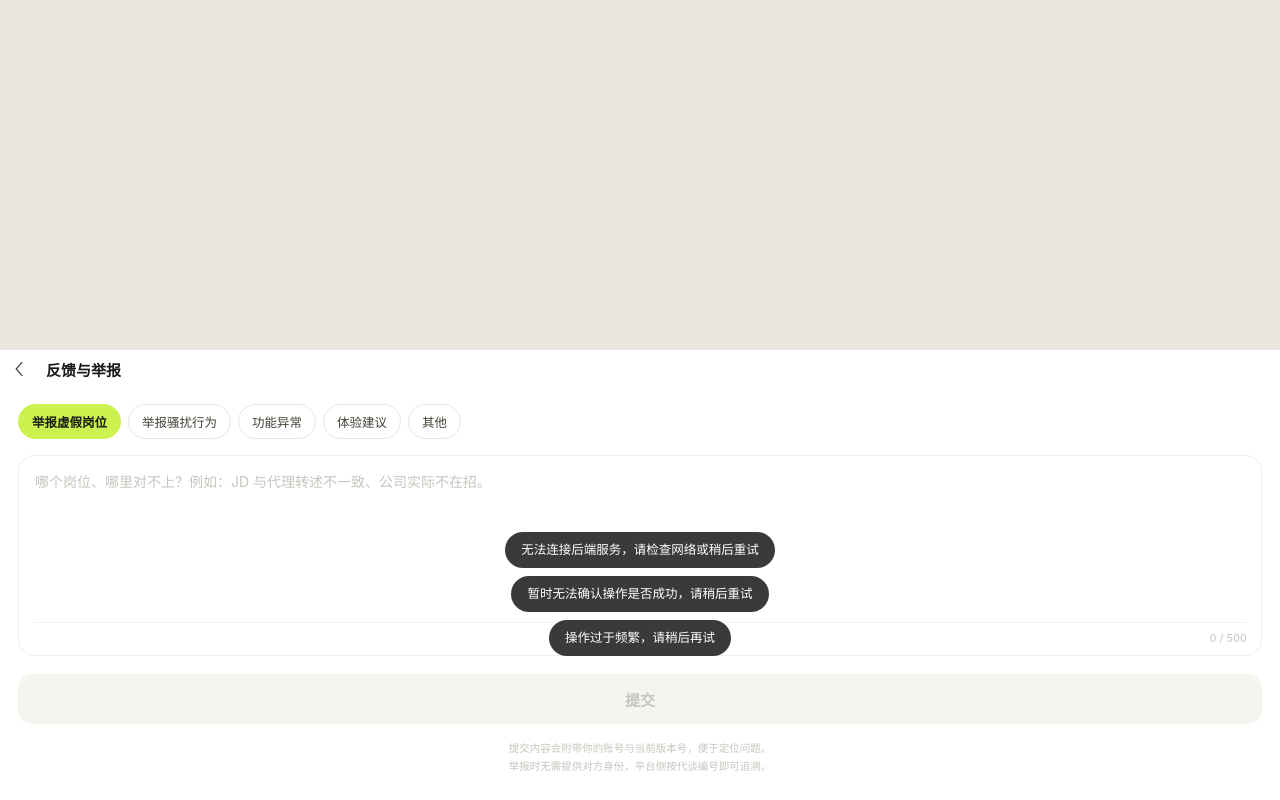
Scenario: 反馈 · Mock 字节级不变 › 举报类分类保持既有本地成功与 24 小时文案（原型行为原样）
(page scrolled)
Click the button "举报虚假岗位" at [70, 422], box [18,404,121,439]
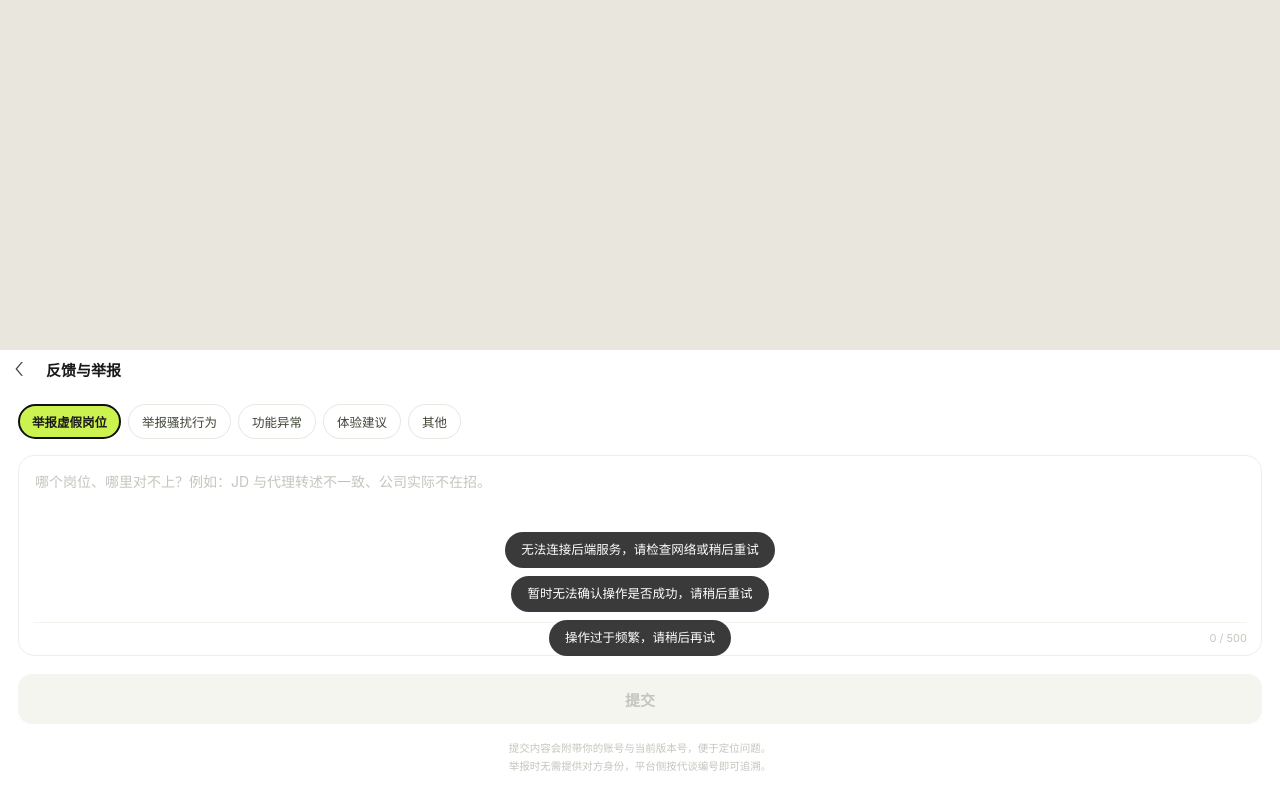
Type "JD 与代理转述不一致" into the text box at [640, 543], box [33,468,1247,618]
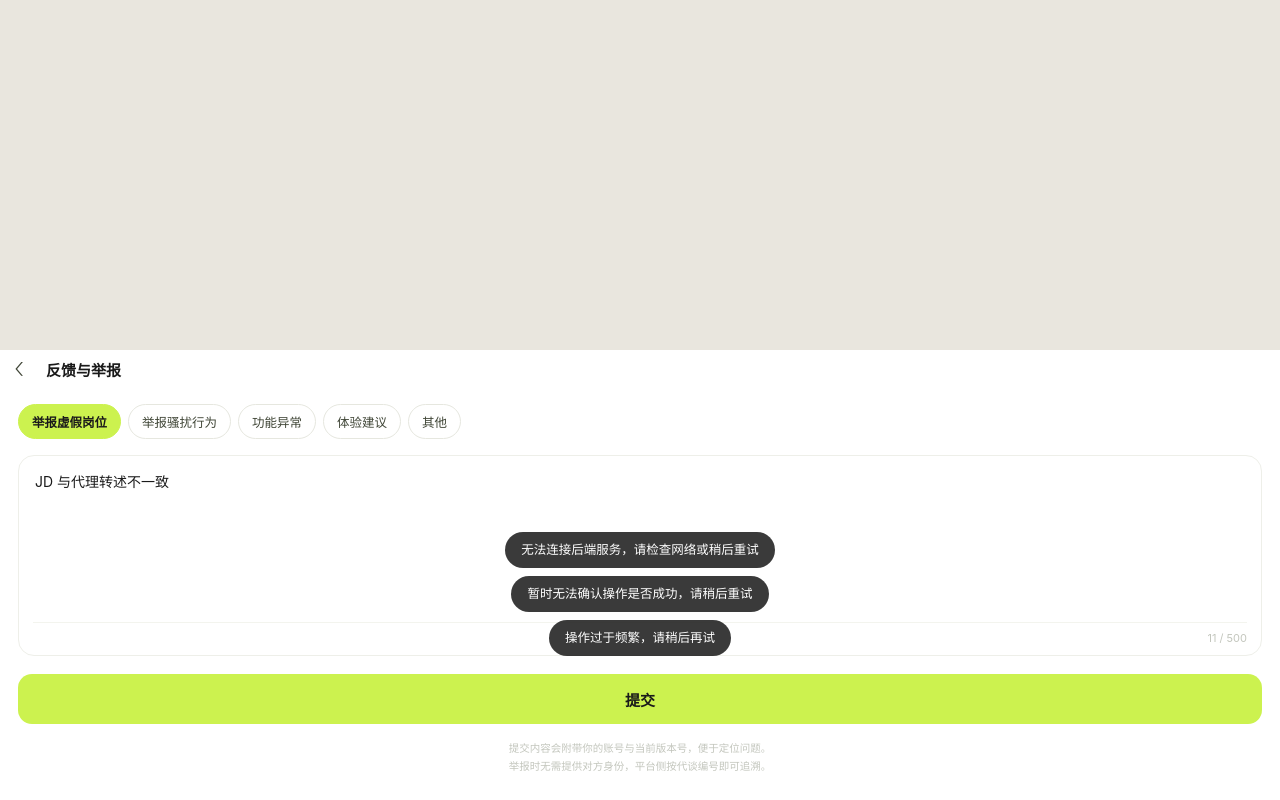
Click the button "提交" at [640, 699], box [18,674,1262,724]
(page scrolled)
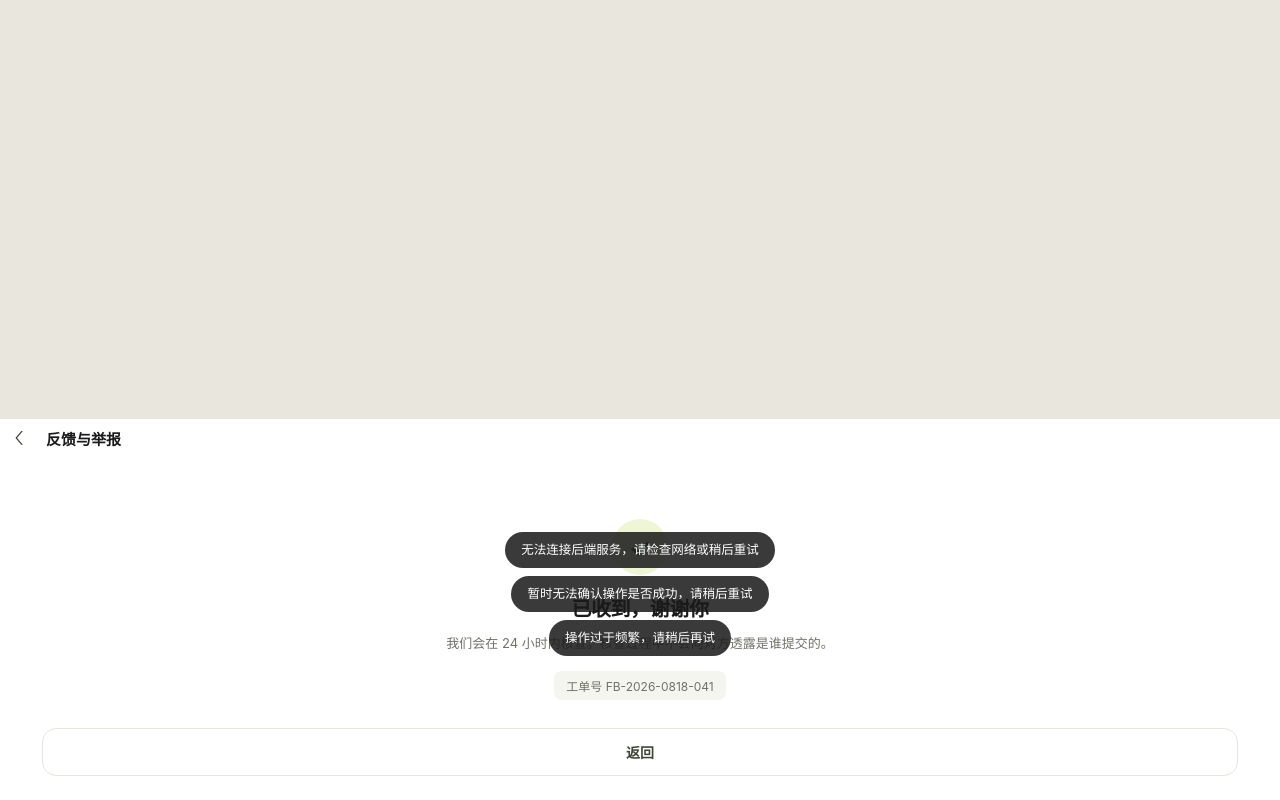
Now the text "我们会在 24 小时内核查。核查过程中不会向对方透露是谁提交的。" is shown, box [446,635,834,651]
Now the text "工单号 FB-2026-0818-041" is shown, box [554,671,726,700]
